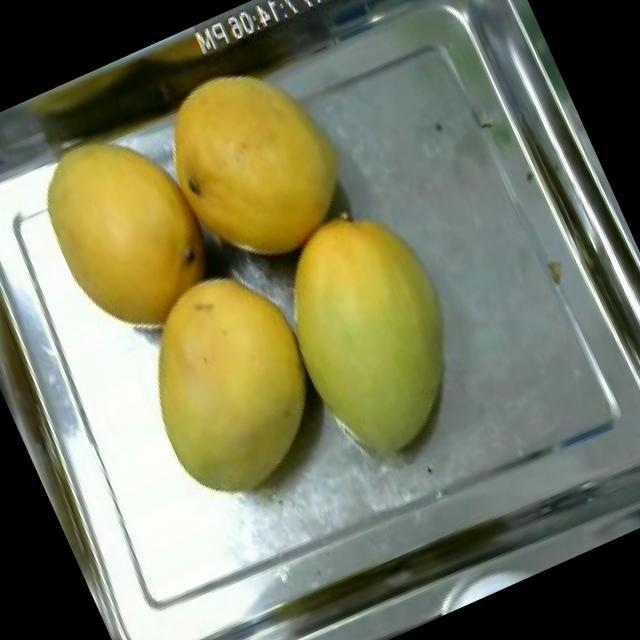fruit: (236, 182, 507, 497), (102, 238, 364, 530), (5, 95, 250, 368), (130, 33, 380, 296)
